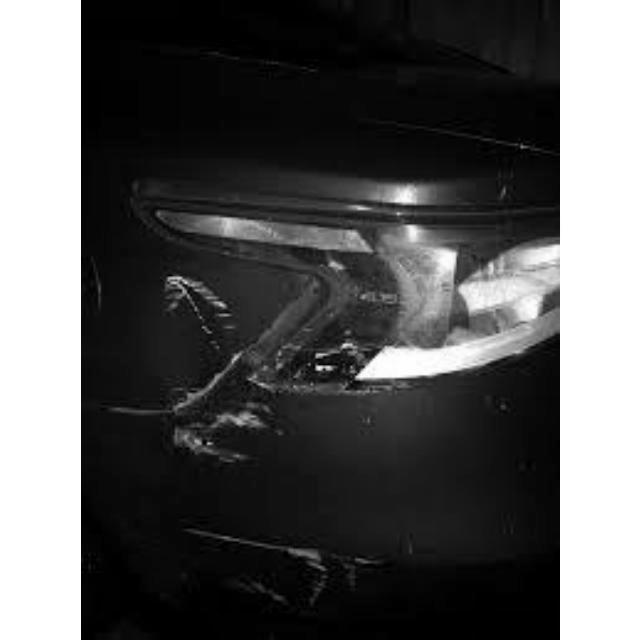Taillight-Damage: (241, 205, 557, 395)
